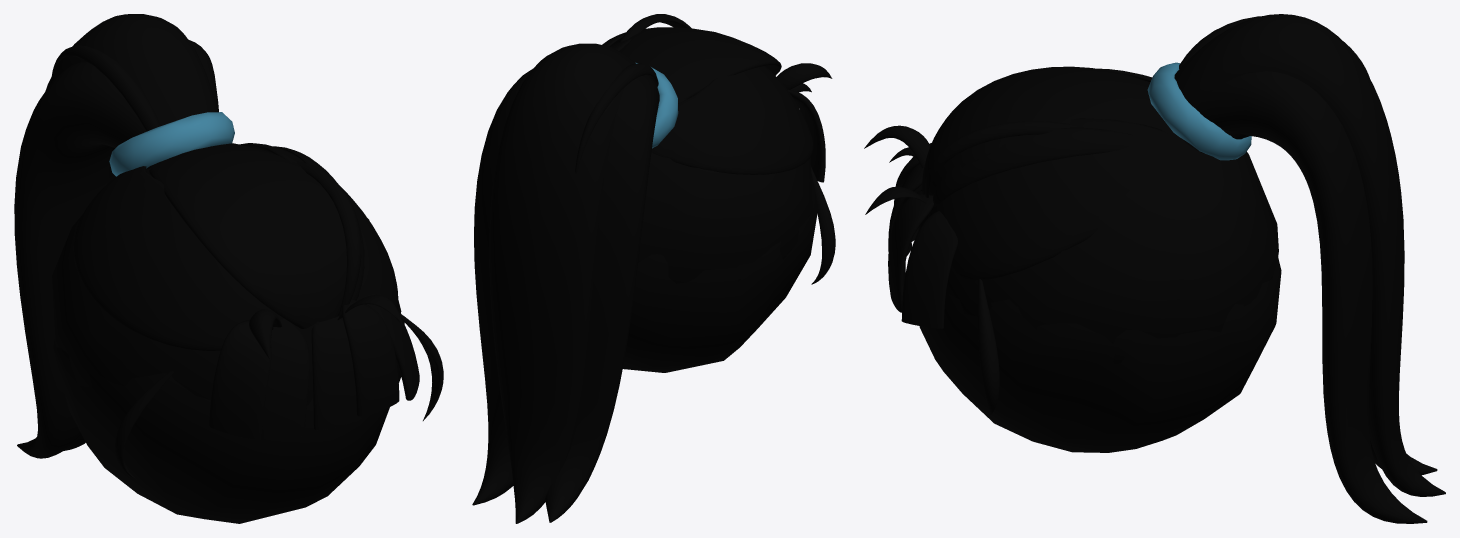
The model's file is Eve_Zopf_WenigMesh.fbx.
The picture shows the model from 3 angles, left to right: view 1: azimuth 30°, elevation 25°; view 2: azimuth 150°, elevation 25°; view 3: azimuth 270°, elevation 25°; orthographic projection. The views are drawn at different scales.
Parts seen in each view (by area): view 1: NurbsPath.001, Dutt.001, Torus; view 2: NurbsPath.001, Dutt.001, Torus; view 3: NurbsPath.001, Dutt.001, Torus.
Part boxes in pixels (bbox=[...]): NurbsPath.001: bbox=[14, 14, 443, 479]; Dutt.001: bbox=[52, 143, 404, 523]; Torus: bbox=[109, 112, 234, 176]; NurbsPath.001: bbox=[472, 14, 835, 523]; Dutt.001: bbox=[622, 96, 817, 372]; Torus: bbox=[635, 62, 678, 148]; NurbsPath.001: bbox=[864, 14, 1445, 523]; Dutt.001: bbox=[918, 107, 1281, 452]; Torus: bbox=[1147, 62, 1251, 160].
Bounding box in the file's own units: 238 × 348 × 382.
